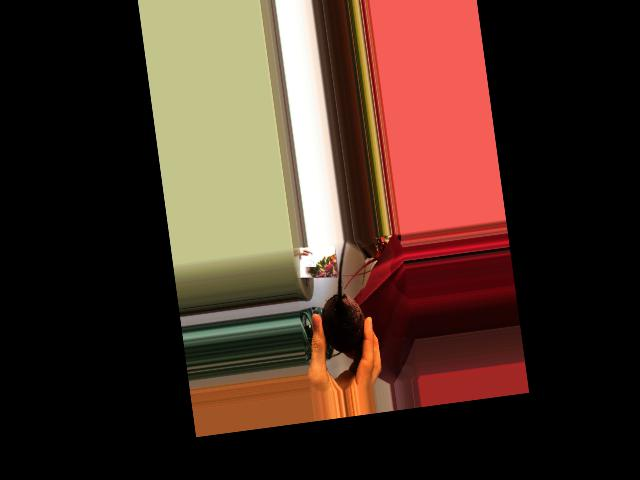beet: (311, 238, 368, 356)
